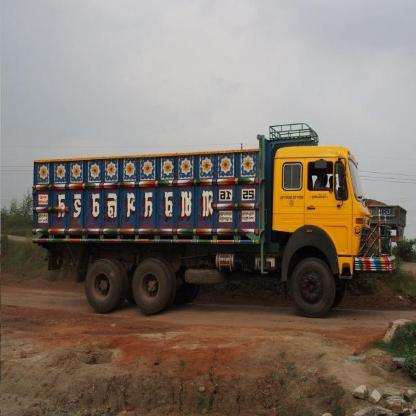truck: (32, 110, 400, 324)
